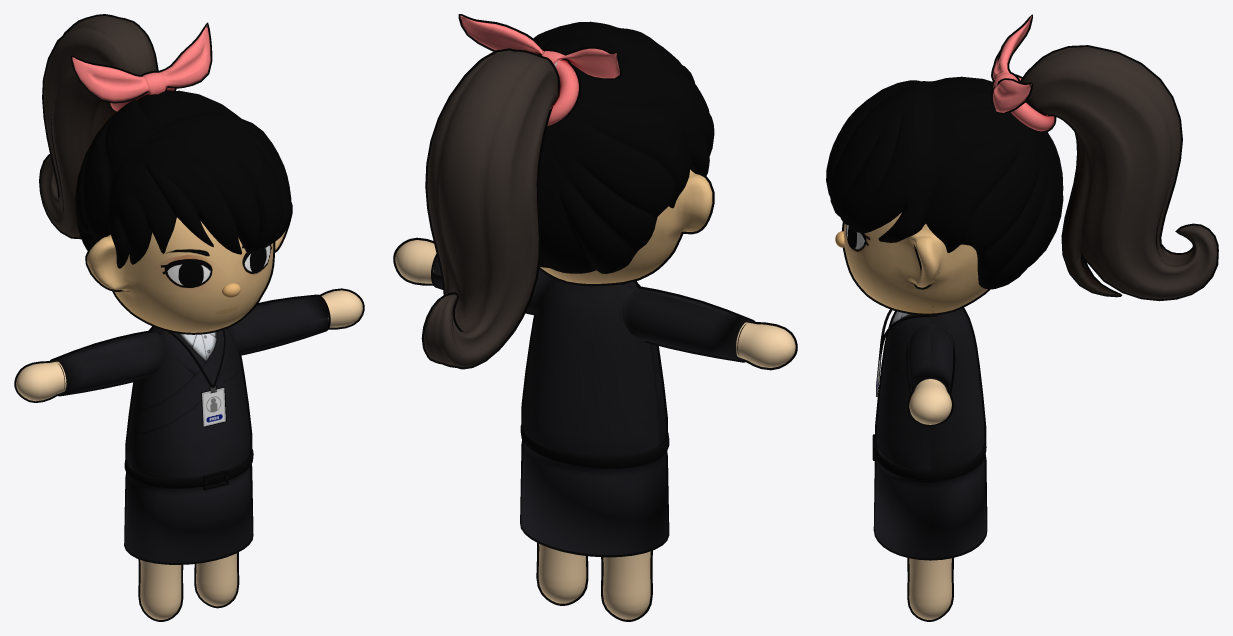
Rendered from Character 3.fbx.
3 renders of one model, left to right at view 1: azimuth 30°, elevation 25°; view 2: azimuth 150°, elevation 25°; view 3: azimuth 270°, elevation 25°, orthographic. The views are drawn at different scales.
Parts seen in each view (by area): view 1: Hair, Suit, Head, Body, Belt, Id Card; view 2: Hair, Suit, Body, Head, Belt; view 3: Hair, Suit, Head, Body, Belt.
Boxes of the visible parts, x1,y1,x2,y2 form: Hair: [39, 14, 291, 268]; Suit: [50, 294, 330, 564]; Head: [85, 202, 292, 334]; Body: [14, 288, 364, 621]; Belt: [124, 446, 253, 490]; Id Card: [167, 329, 226, 427]; Hair: [421, 14, 714, 369]; Suit: [431, 254, 754, 557]; Body: [393, 237, 797, 621]; Head: [539, 169, 714, 286]; Belt: [520, 421, 669, 468]; Hair: [826, 14, 1218, 301]; Suit: [873, 307, 987, 560]; Head: [841, 212, 990, 315]; Body: [907, 379, 953, 621]; Belt: [872, 434, 986, 481].
Bounding box in the file's own units: 296 × 440 × 281.
